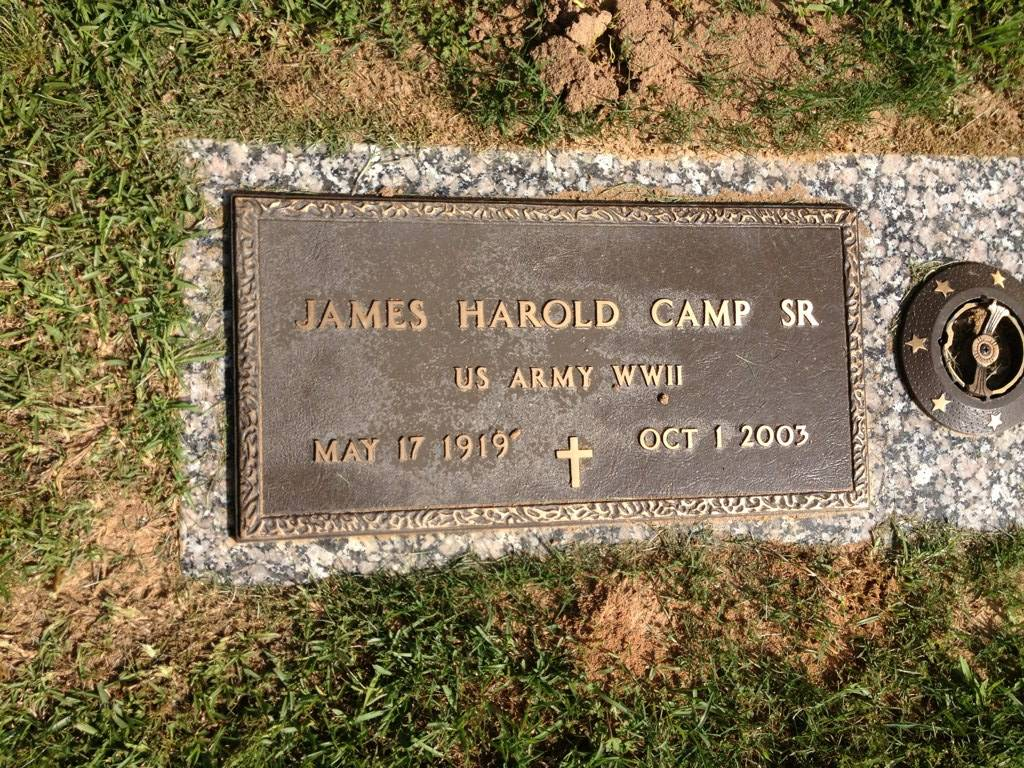flat: (183, 134, 1024, 573)
